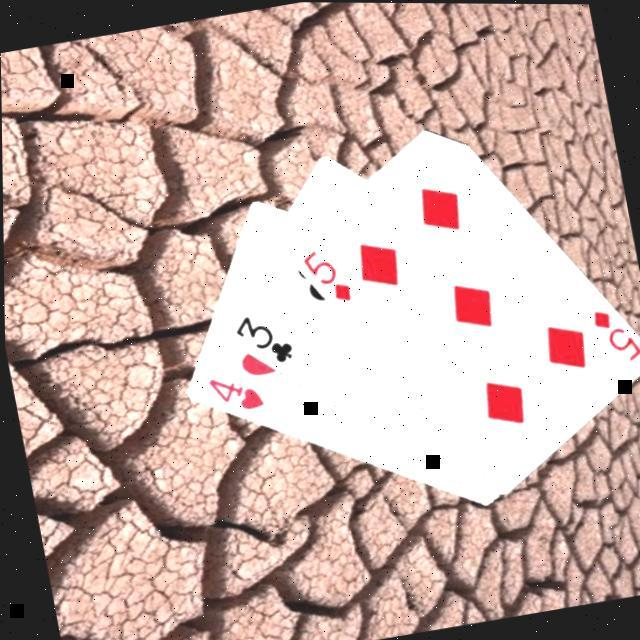3C: (228, 302, 298, 371)
4H: (202, 364, 268, 417)
5D: (296, 239, 356, 308), (586, 296, 640, 366)
